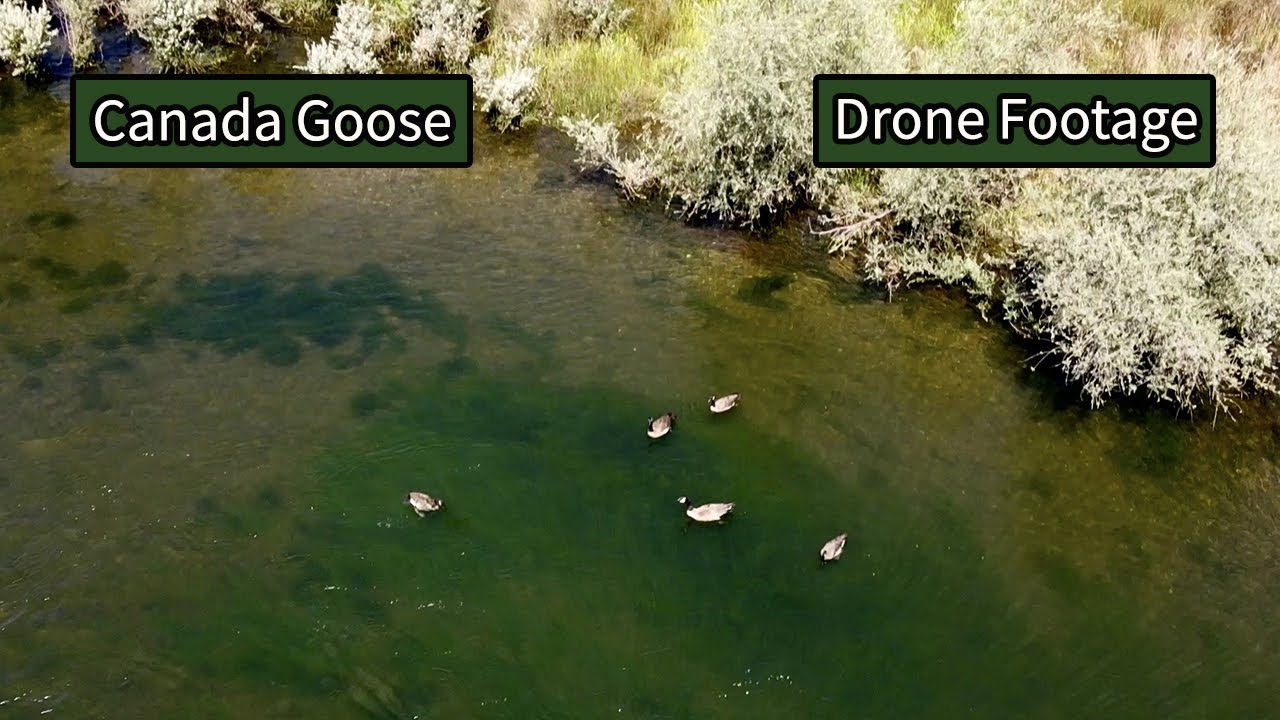goose: (672, 484, 741, 532), (397, 484, 449, 524), (701, 383, 745, 423), (639, 409, 680, 445), (814, 530, 851, 564)
